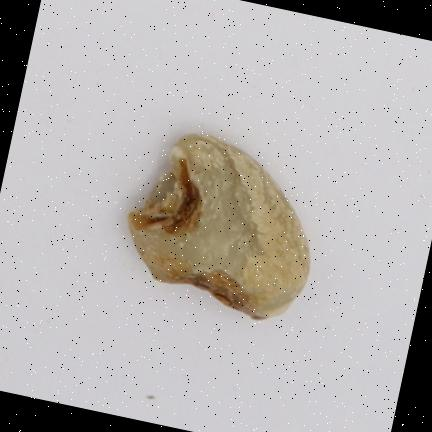cut: (129, 135, 310, 319)
